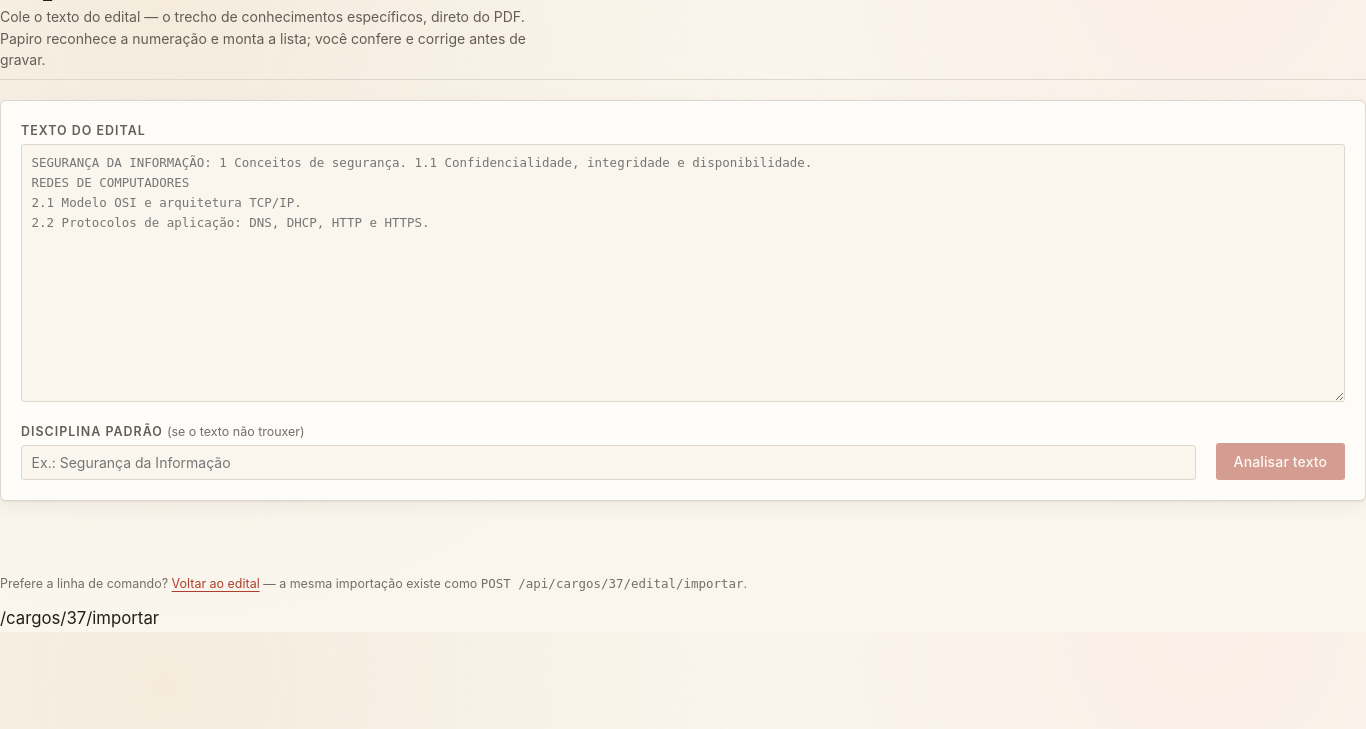
Test: PaginaImportar — analise › agrupa os itens reconhecidos por disciplina
Click the text box labelled "Texto do edital": (683, 273) x1=21 y1=144 x2=1345 y2=402
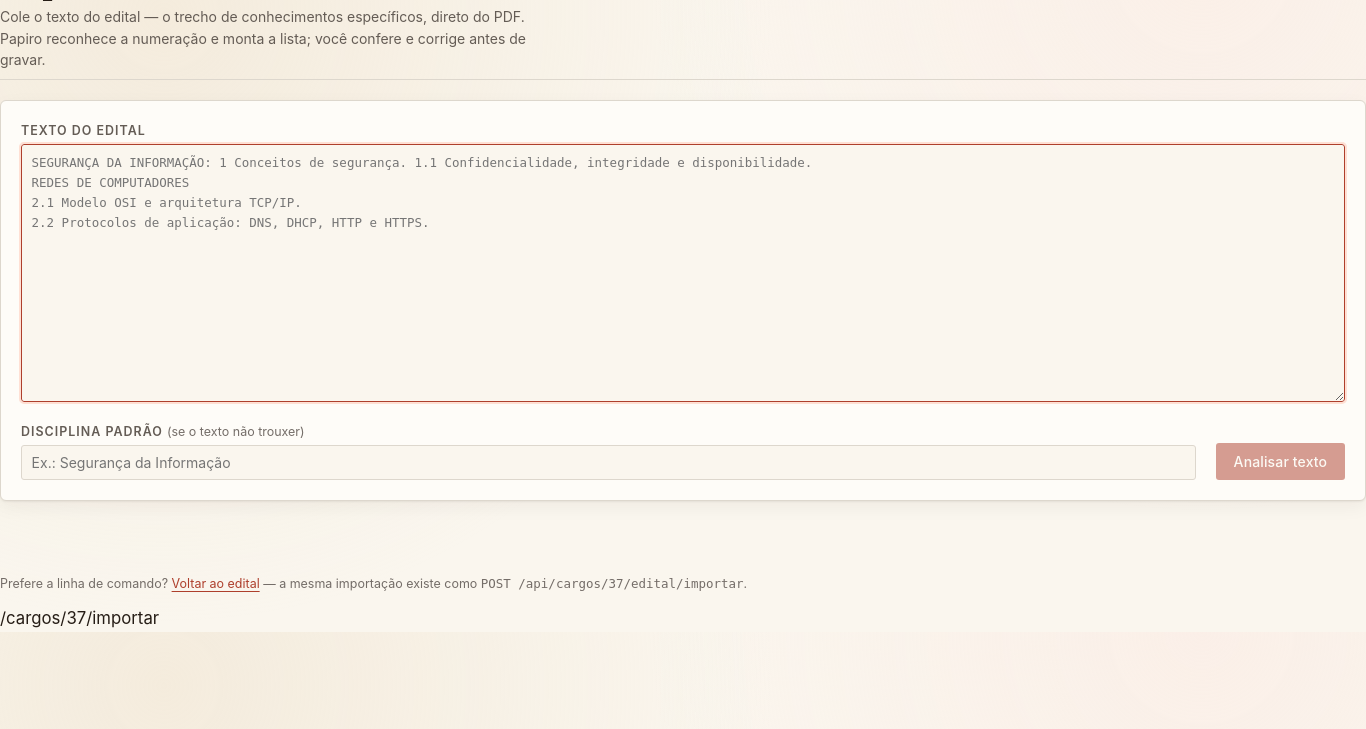
Type keys "SEGURANÇA DA INFORMAÇÃO 1.1 Confidencialidade e integridade. 1.2 Criptografia simétrica. REDES 2.1 Modelo OSI."
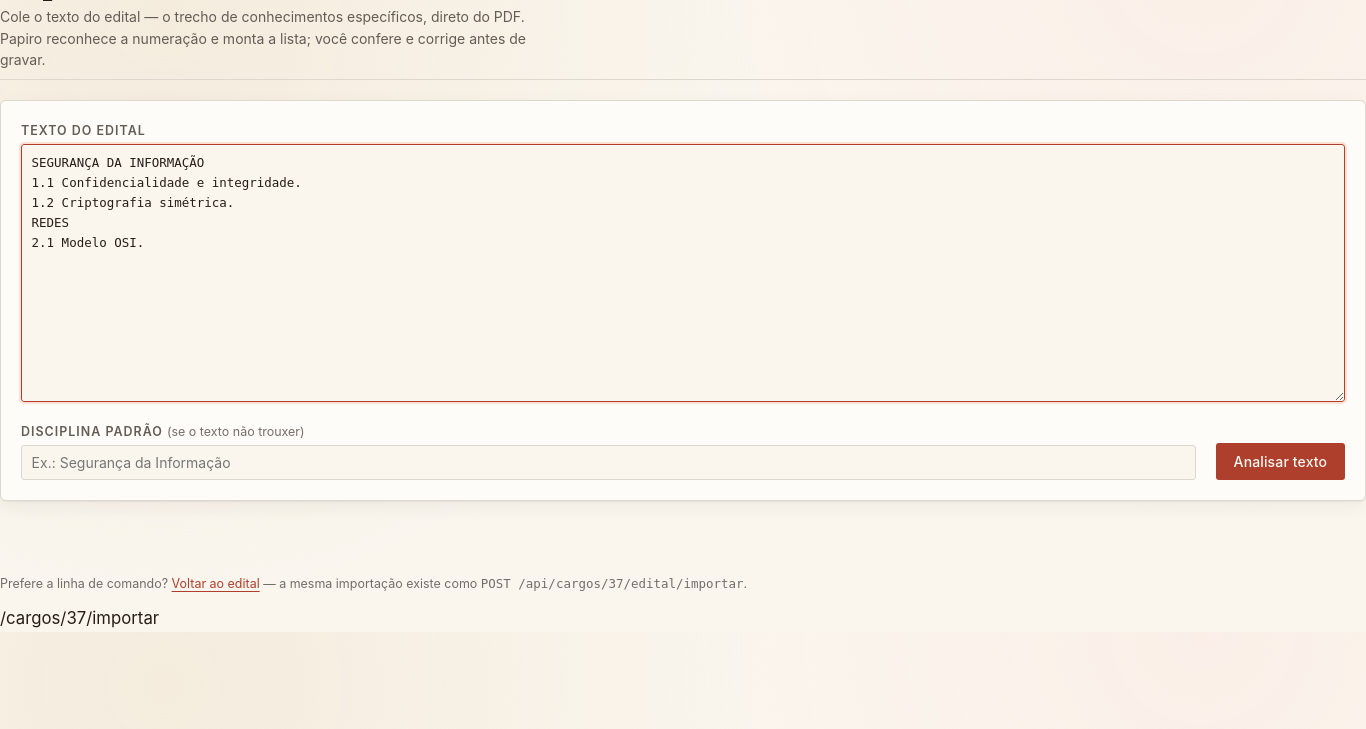
Click the button "Analisar texto": (1280, 462) x1=1216 y1=443 x2=1345 y2=480
(page scrolled)
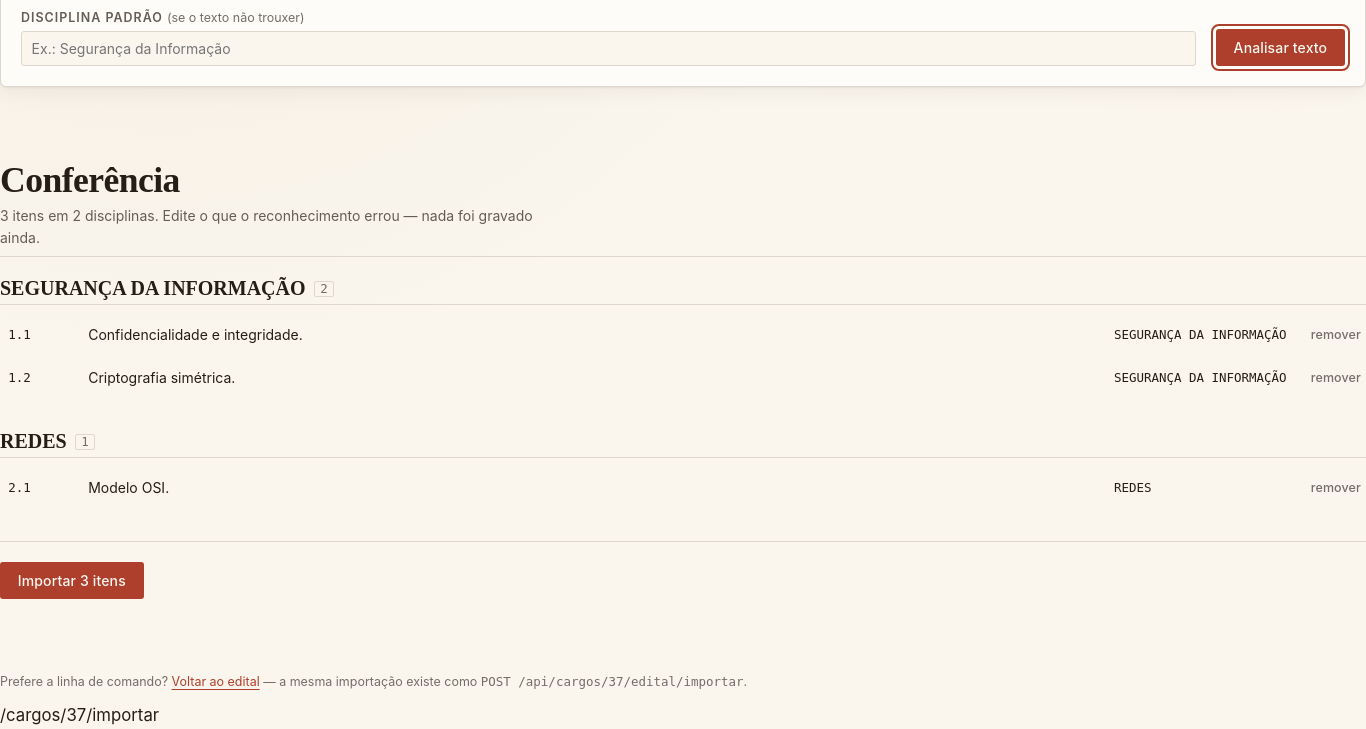
Expected: the heading "SEGURANÇA DA INFORMAÇÃO 2" is shown, x1=0 y1=277 x2=1365 y2=305
Expected: the heading "REDES 1" is shown, x1=0 y1=430 x2=1365 y2=458
